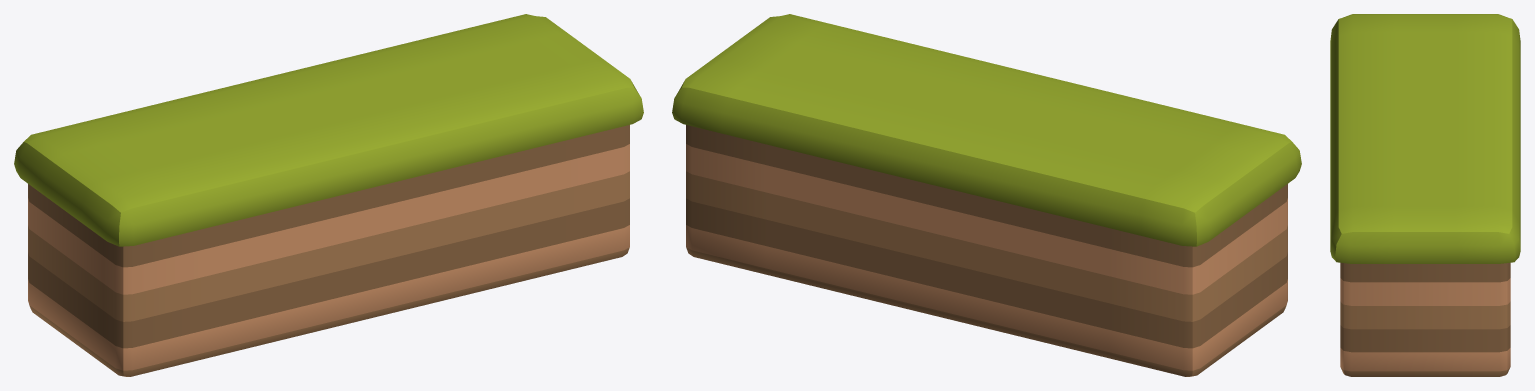
File: Cube_Grass_1x1End.004.fbx
3 views of the same model, side by side, from view 1: azimuth 30°, elevation 25°; view 2: azimuth 150°, elevation 25°; view 3: azimuth 270°, elevation 25° (orthographic). The views are drawn at different scales.
Visible parts, largest first — view 1: Cube_Grass_1x1End.004; view 2: Cube_Grass_1x1End.004; view 3: Cube_Grass_1x1End.004.
Part boxes in pixels (<box>): Cube_Grass_1x1End.004: <box>14,14,643,376</box>; Cube_Grass_1x1End.004: <box>672,14,1301,376</box>; Cube_Grass_1x1End.004: <box>1330,14,1520,376</box>.
Size of the model in its own units: 623 by 200 by 223.
